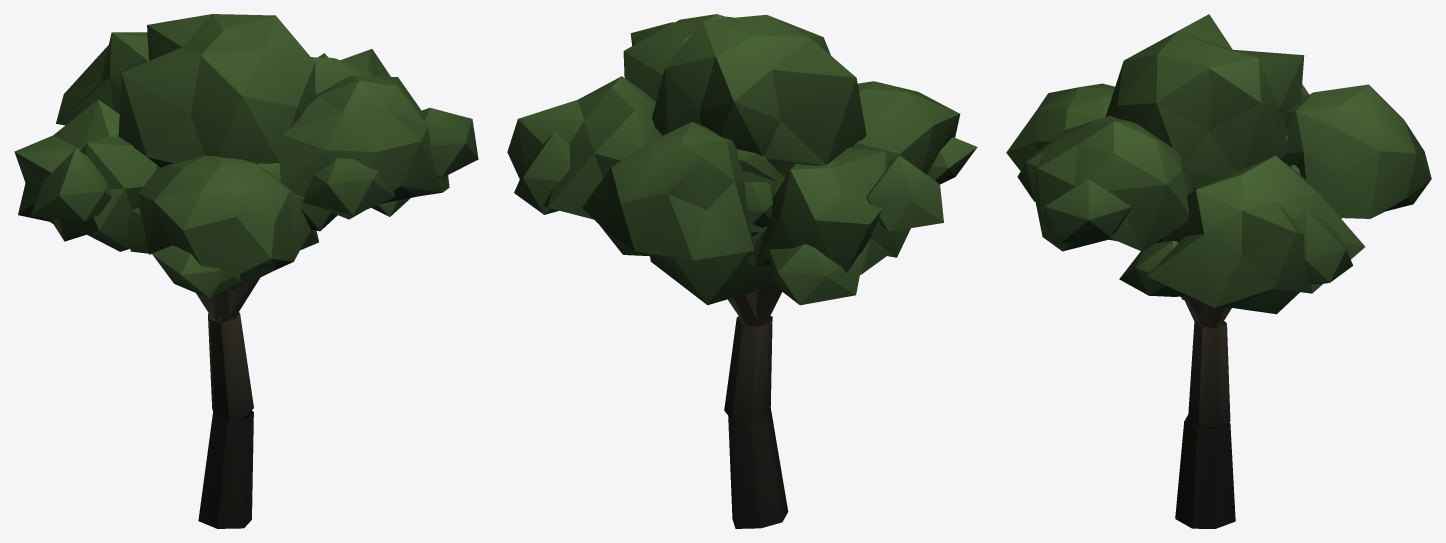
The model's file is baum_sumpf1.glb.
3 renders of one model, left to right at view 1: azimuth 30°, elevation 25°; view 2: azimuth 150°, elevation 25°; view 3: azimuth 270°, elevation 25°, orthographic. The views are drawn at different scales.
Parts seen in each view (by area): view 1: baum_sumpf1; view 2: baum_sumpf1; view 3: baum_sumpf1.
Part boxes in pixels (box(x1,y1,x2,y2)): baum_sumpf1: box(14, 14, 478, 528); baum_sumpf1: box(507, 14, 977, 528); baum_sumpf1: box(1006, 14, 1431, 528).
Size of the model in its own units: 5.54 by 6.38 by 5.17.
